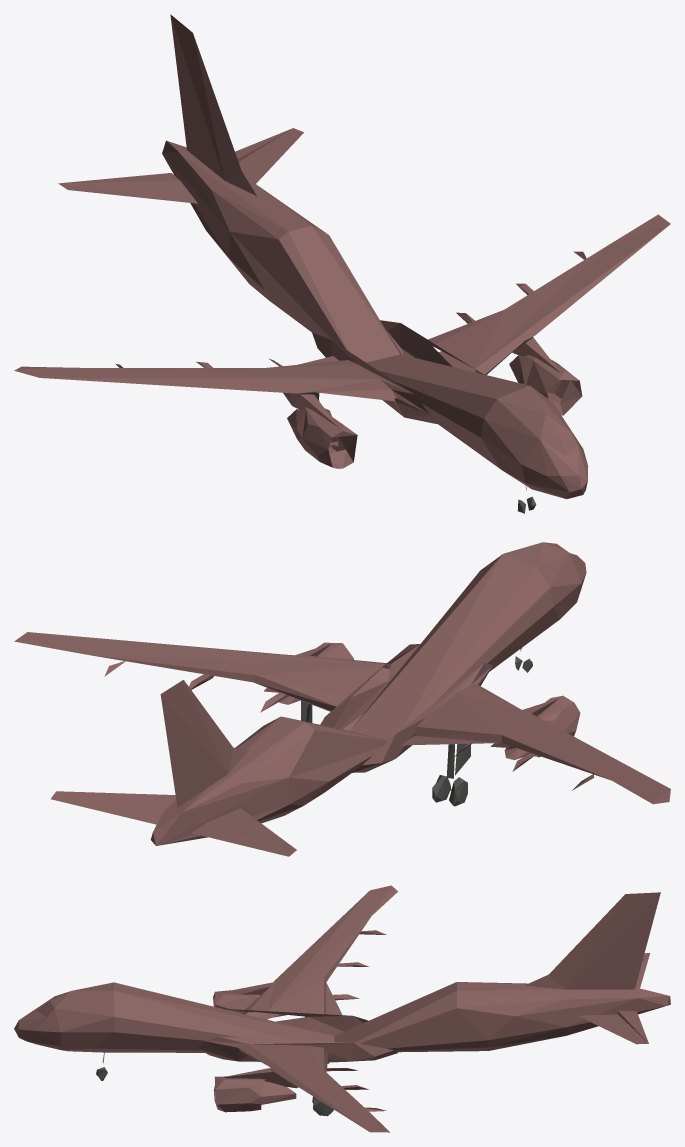
3 renders of one model, top to bottom at view 1: azimuth 30°, elevation 25°; view 2: azimuth 150°, elevation 25°; view 3: azimuth 270°, elevation 25°, orthographic. The views are drawn at different scales.
Parts seen in each view (by area): view 1: Object_4; view 2: Object_4; view 3: Object_4.
Part boxes in pixels (x1,y1,x2,y2): Object_4: [14, 14, 670, 513]; Object_4: [14, 542, 670, 856]; Object_4: [14, 885, 670, 1132].
Size of the model in its own units: 33.43 by 12.31 by 37.6.
